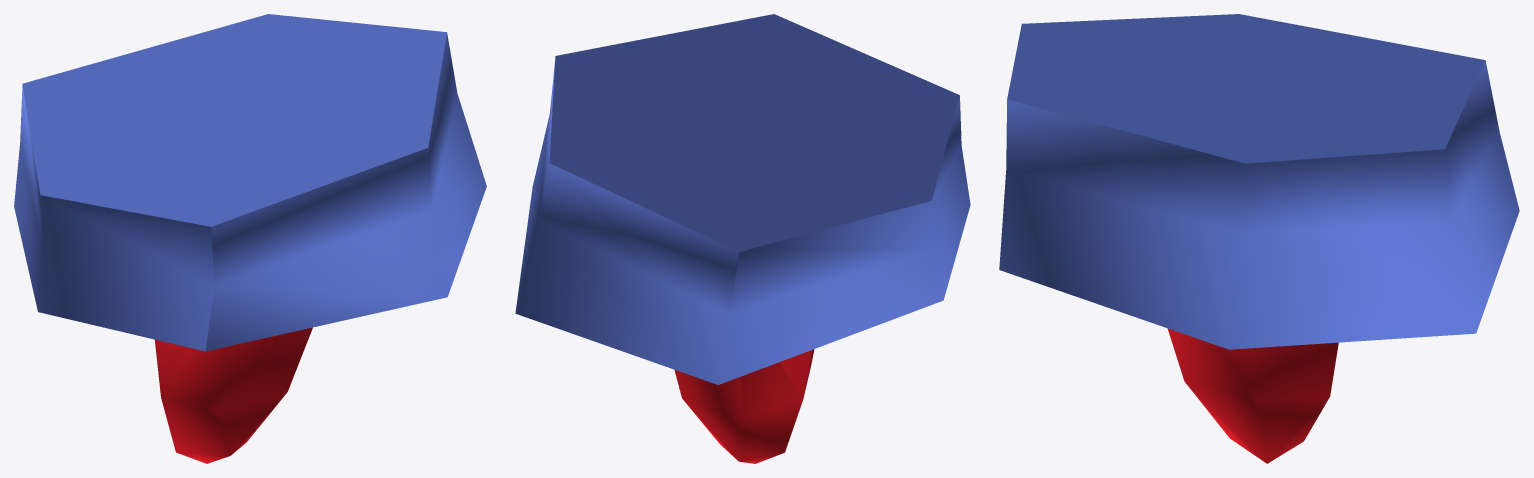
The model's file is PataI.obj.
3 renders of one model, left to right at view 1: azimuth 30°, elevation 25°; view 2: azimuth 150°, elevation 25°; view 3: azimuth 270°, elevation 25°, orthographic. The views are drawn at different scales.
Parts seen in each view (by area): view 1: 3D_Object_1; view 2: 3D_Object_1; view 3: 3D_Object_1.
Part boxes in pixels (left/top/right/bottom): 3D_Object_1: left=14, top=14, right=486, bottom=463; 3D_Object_1: left=515, top=14, right=970, bottom=463; 3D_Object_1: left=999, top=14, right=1519, bottom=463.
Bounding box in the file's own units: 26.22 × 21.37 × 24.38.
Materials: 1 (1 with a texture image).
